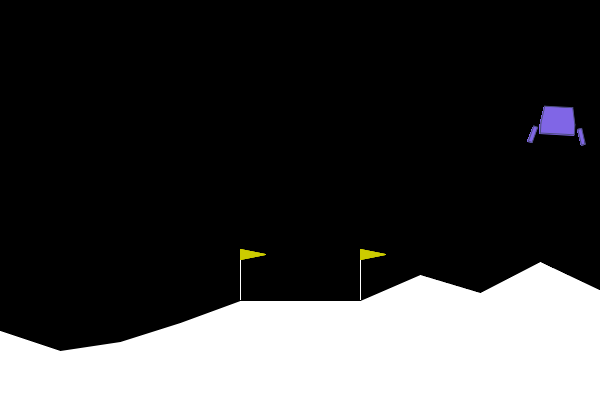lander: (526, 104, 588, 147)
